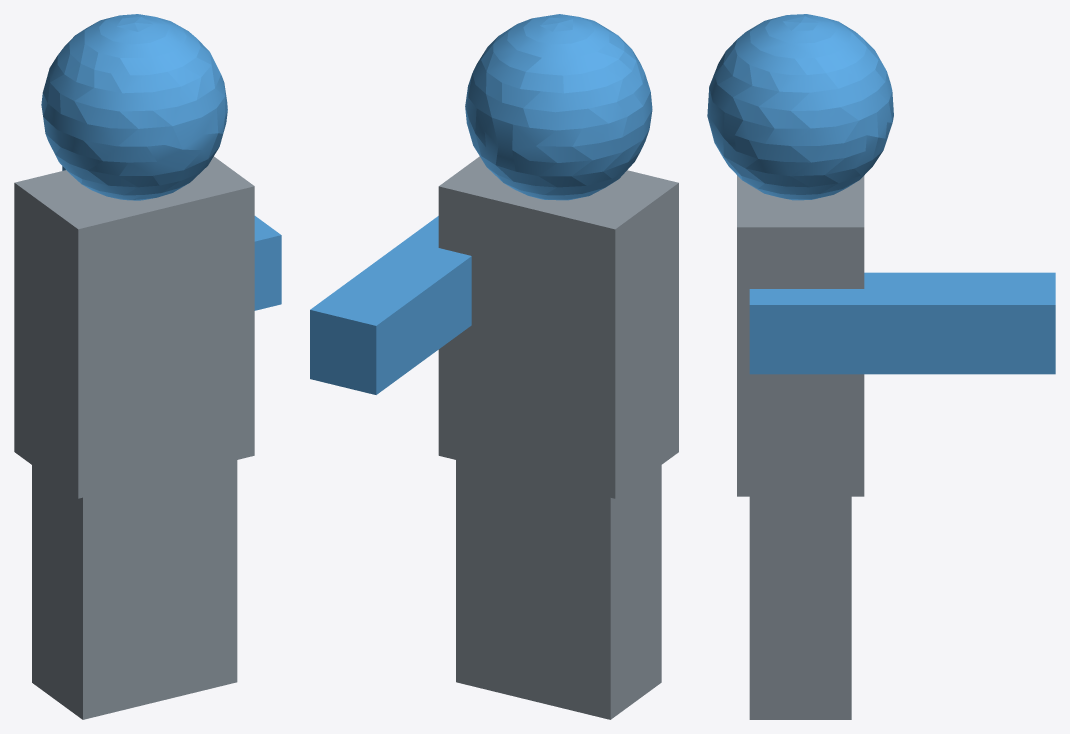
Rendered from AL_FieldEngineer_LOD1.glb.
3 renders of one model, left to right at view 1: azimuth 30°, elevation 25°; view 2: azimuth 150°, elevation 25°; view 3: azimuth 270°, elevation 25°, orthographic.
Parts seen in each view (by area): view 1: Head; view 2: Head; view 3: Head.
Part boxes in pixels (x1,y1,x2,y2): Head: [14, 14, 281, 719]; Head: [310, 14, 678, 719]; Head: [707, 14, 1055, 719].
Bounding box in the file's own units: 57 × 171 × 81.99.
